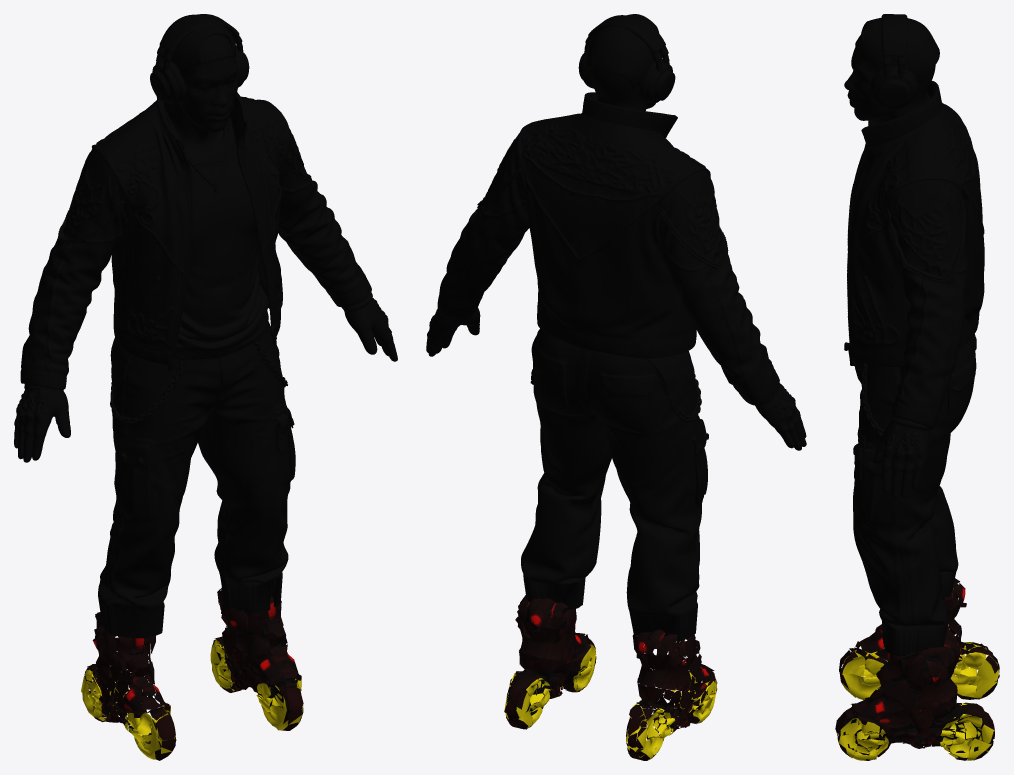
Rendered from caali-g-v2-hd-raw.glb.
3 views of the same model, side by side, from view 1: azimuth 30°, elevation 25°; view 2: azimuth 150°, elevation 25°; view 3: azimuth 270°, elevation 25° (orthographic). The views are drawn at different scales.
Parts seen in each view (by area): view 1: CaaliG_LOD0; view 2: CaaliG_LOD0; view 3: CaaliG_LOD0.
Boxes of the visible parts, x1,y1,x2,y2 form: CaaliG_LOD0: (14,14,397,760); CaaliG_LOD0: (426,14,806,760); CaaliG_LOD0: (835,14,999,760).
Size of what is drawn, in the model's own units: 1.06 by 1.92 by 0.4033.
1 material, 1 textured.
